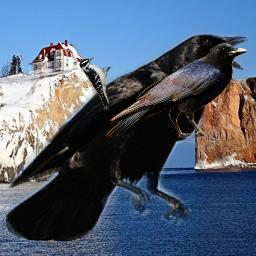Crow: (6, 31, 248, 241), (106, 42, 247, 138)
Woodpecker: (79, 57, 113, 110)
